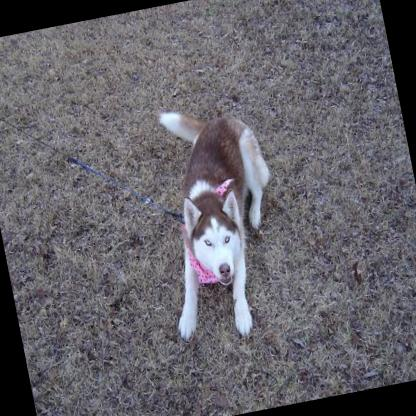Siberian_husky: (133, 89, 299, 350)
